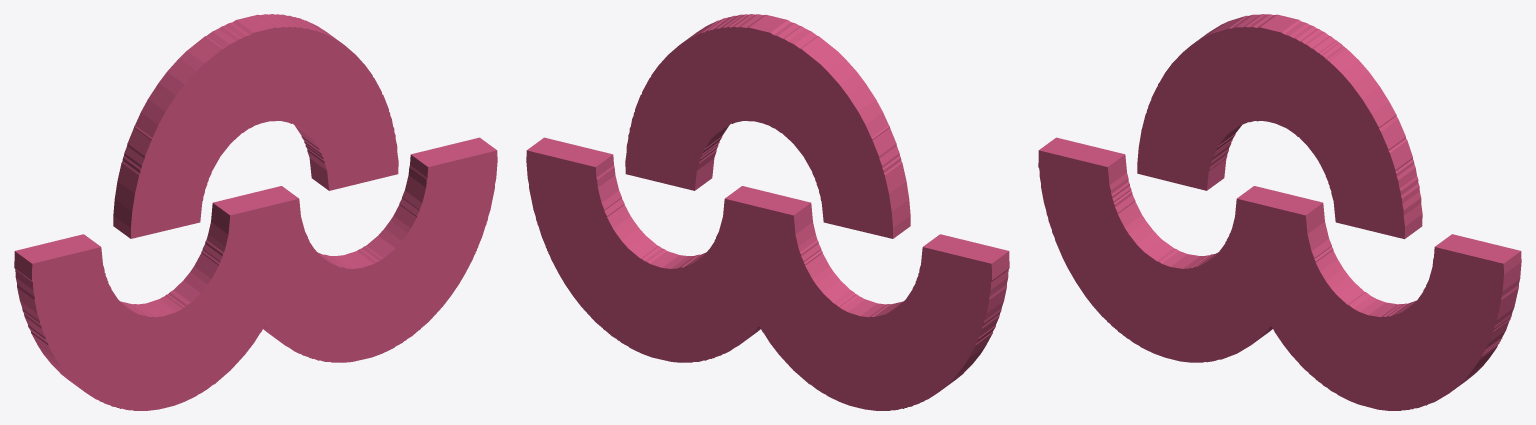
File: bytecorp-arch.glb
The picture shows the model from 3 angles, left to right: view 1: azimuth 30°, elevation 25°; view 2: azimuth 150°, elevation 25°; view 3: azimuth 330°, elevation 25°; orthographic projection.
Visible parts, largest first — view 1: geometry_0; view 2: geometry_0; view 3: geometry_0.
Boxes of the visible parts, box(x1,y1,x2,y2) form: geometry_0: box(14, 14, 497, 410); geometry_0: box(526, 14, 1009, 410); geometry_0: box(1038, 14, 1521, 410).
Size of the model in its own units: 1.99 by 1.45 by 0.13.
